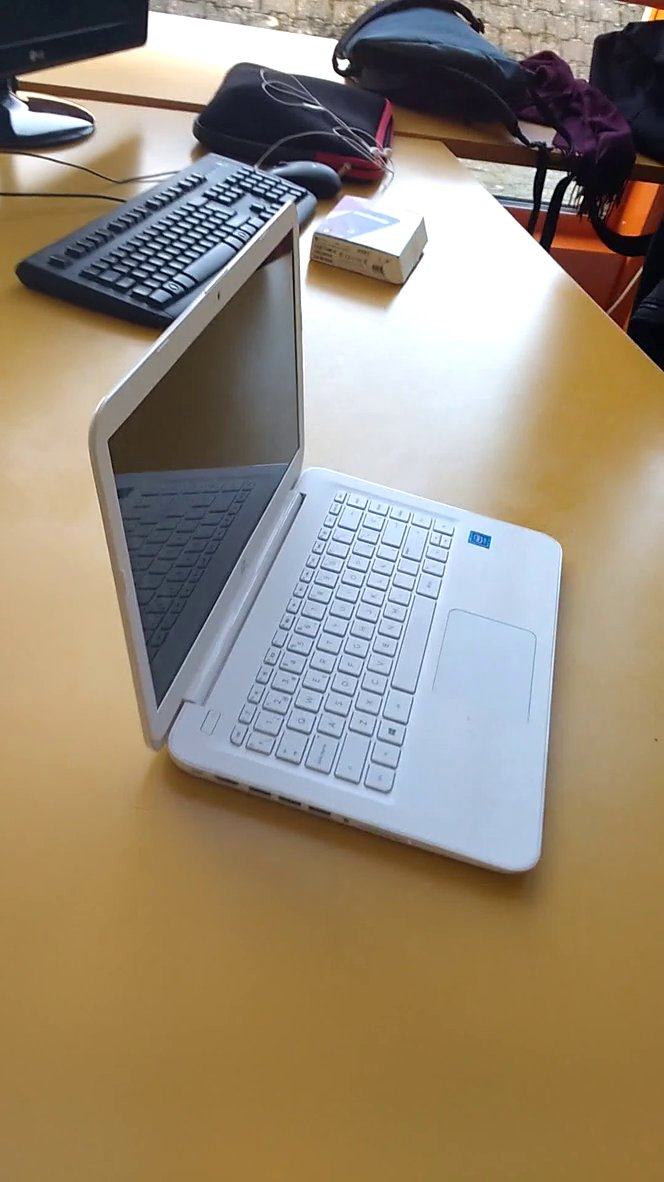bag: (331, 1, 543, 146)
laptop: (79, 190, 590, 894)
